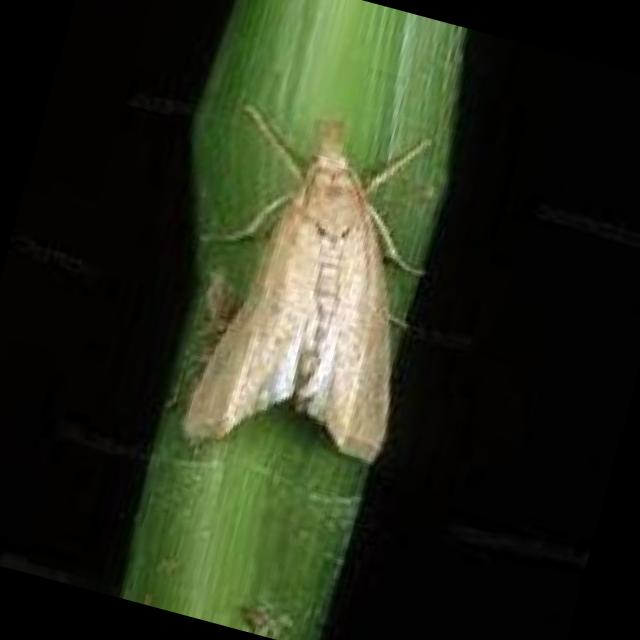stem-borer: (161, 87, 450, 474)
